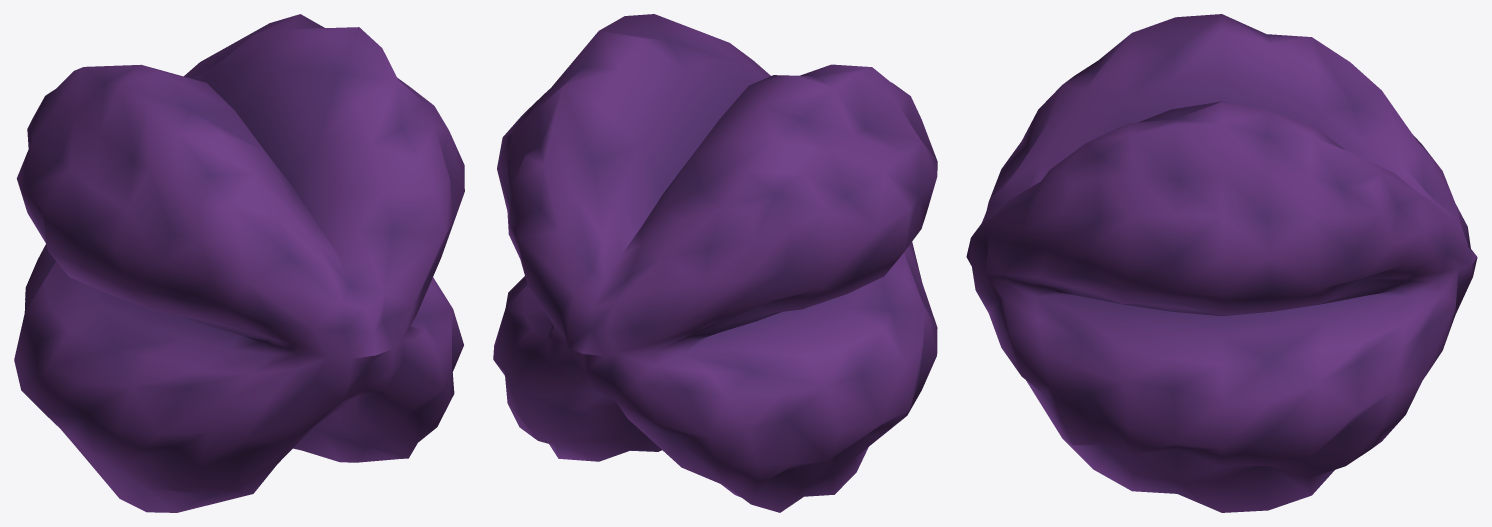
File: microscopic-pollen-spores-lumpy-pollen_v1.glb
3 renders of one model, left to right at view 1: azimuth 30°, elevation 25°; view 2: azimuth 150°, elevation 25°; view 3: azimuth 270°, elevation 25°, orthographic. The views are drawn at different scales.
Parts seen in each view (by area): view 1: Lumpy Pollen; view 2: Lumpy Pollen; view 3: Lumpy Pollen.
Boxes of the visible parts, x1,y1,x2,y2 form: Lumpy Pollen: (14, 14, 464, 512); Lumpy Pollen: (493, 14, 937, 512); Lumpy Pollen: (966, 14, 1477, 512).
Bounding box in the file's own units: 0.2511 × 0.2558 × 0.3.
